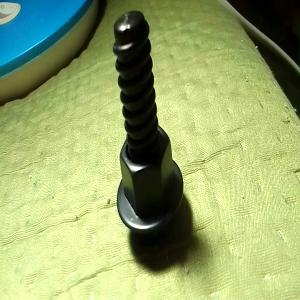parafuso: (112, 8, 184, 236)
